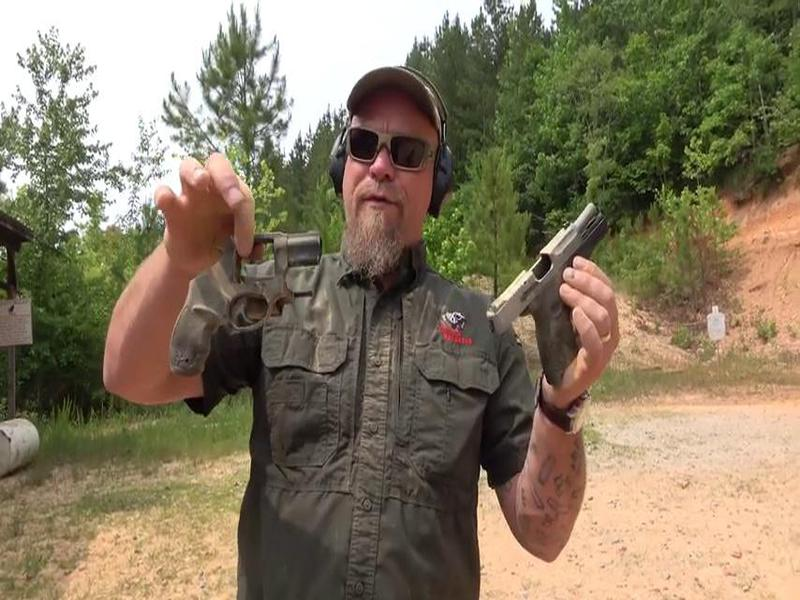Pistola: (489, 196, 636, 398)
Revolver: (176, 197, 339, 378)
